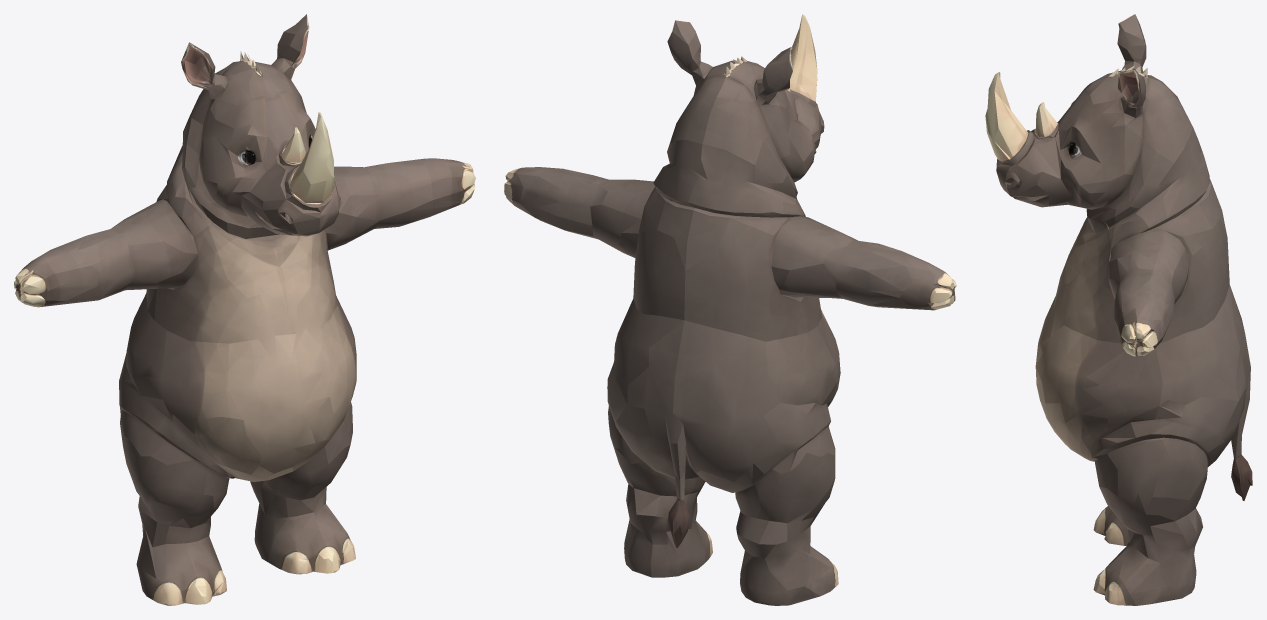
File: rhino-tpose.glb
The picture shows the model from 3 angles, left to right: view 1: azimuth 30°, elevation 25°; view 2: azimuth 150°, elevation 25°; view 3: azimuth 270°, elevation 25°; orthographic projection. The views are drawn at different scales.
Visible parts, largest first — view 1: output_unwrapped; view 2: output_unwrapped; view 3: output_unwrapped.
Part boxes in pixels (left/top/right/bottom): output_unwrapped: left=14, top=14, right=475, bottom=605; output_unwrapped: left=504, top=14, right=956, bottom=605; output_unwrapped: left=985, top=14, right=1252, bottom=605.
Size of the model in its own units: 1.67 by 1.9 by 0.8882.
1 material, 1 textured.
